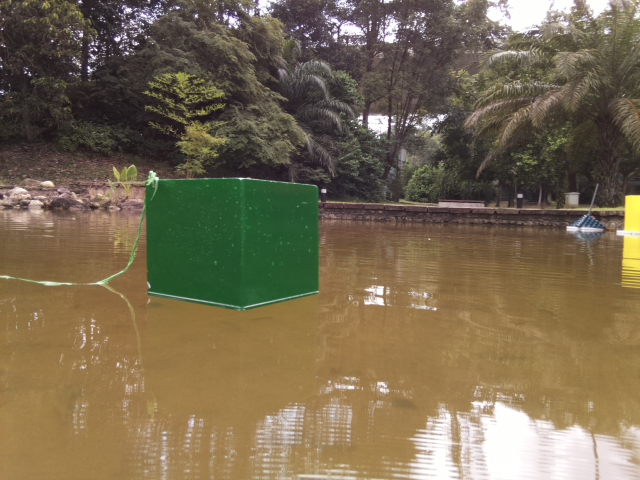obstacle: (144, 177, 320, 312)
